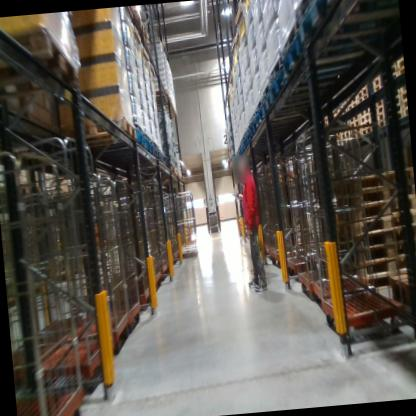pallet: (280, 25, 390, 90), (0, 27, 77, 92), (267, 59, 369, 103), (297, 0, 389, 47), (54, 112, 138, 154), (326, 162, 415, 200), (257, 83, 338, 122), (328, 203, 416, 238), (339, 232, 416, 269), (328, 179, 416, 211), (329, 218, 416, 250), (332, 194, 416, 225), (340, 96, 385, 146), (340, 247, 416, 275), (245, 122, 316, 147), (362, 269, 416, 290), (136, 127, 151, 155), (255, 105, 269, 133), (144, 136, 158, 163), (247, 114, 258, 146), (151, 88, 173, 103), (355, 83, 371, 102), (156, 144, 167, 166), (345, 92, 360, 107), (358, 105, 373, 120), (389, 57, 400, 75), (395, 54, 405, 71), (400, 100, 409, 118), (371, 74, 381, 90), (356, 92, 369, 104), (344, 100, 358, 111), (360, 126, 374, 137), (360, 112, 372, 123), (350, 125, 362, 135), (360, 119, 373, 128), (349, 119, 360, 129), (154, 146, 161, 161), (339, 131, 352, 139), (349, 113, 359, 123), (352, 134, 363, 143), (376, 118, 386, 127), (396, 109, 404, 119), (394, 86, 400, 97), (401, 91, 407, 101), (375, 107, 384, 113), (376, 112, 384, 118), (395, 96, 400, 105), (401, 81, 406, 90), (396, 104, 401, 110)
